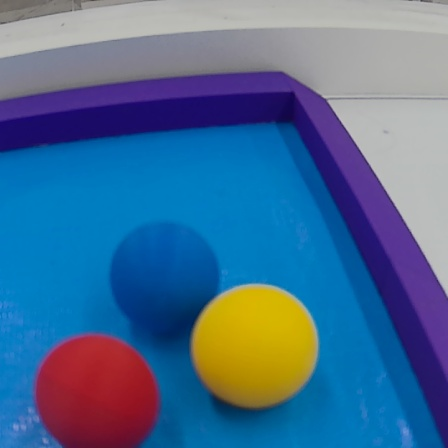blue: (94, 217, 224, 345)
blue_aim: (8, 65, 448, 446)
red: (25, 335, 177, 448)
yellow: (186, 272, 323, 411)
